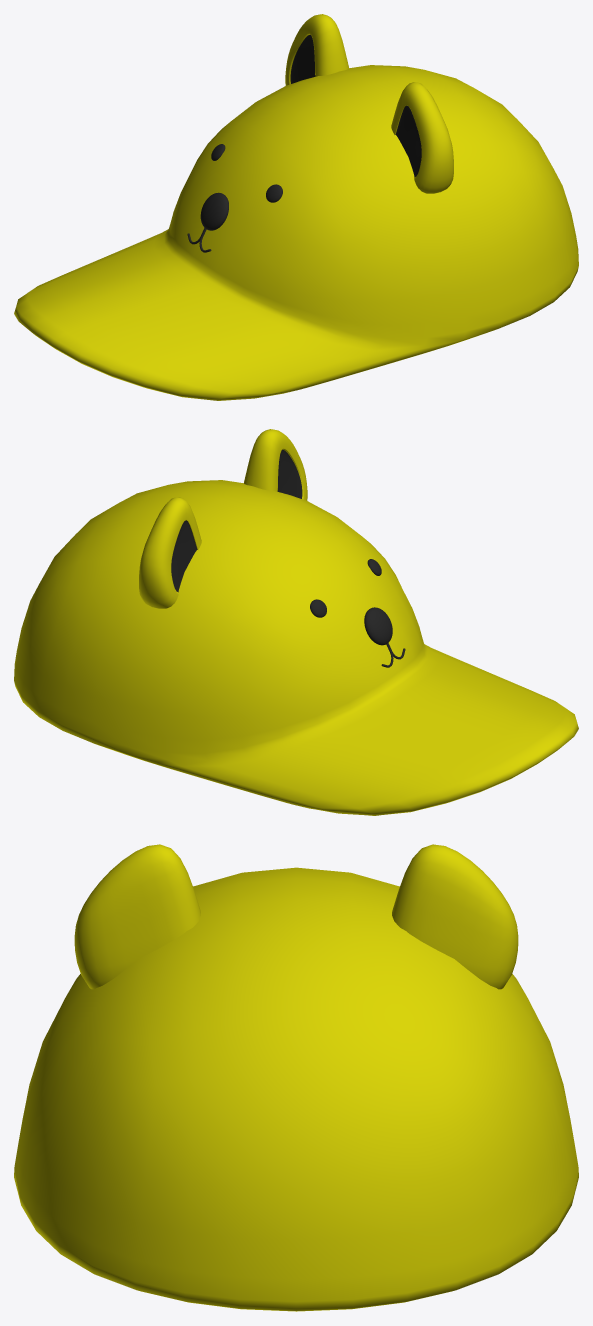
Rendered from cat_cap.glb.
The picture shows the model from 3 angles, top to bottom: view 1: azimuth 30°, elevation 25°; view 2: azimuth 150°, elevation 25°; view 3: azimuth 270°, elevation 25°; orthographic projection. The views are drawn at different scales.
Parts seen in each view (by area): view 1: Cube_0, Cube.001_3, Sphere_4; view 2: Cube_0, Cube.001_3, Sphere_4; view 3: Cube_0, Cube.001_3.
Part boxes in pixels (x1,y1,x2,y2): Cube_0: [14, 65, 578, 400]; Cube.001_3: [285, 14, 453, 193]; Sphere_4: [200, 192, 228, 230]; Cube_0: [14, 480, 578, 815]; Cube.001_3: [139, 429, 307, 608]; Sphere_4: [364, 607, 392, 645]; Cube_0: [14, 867, 578, 1311]; Cube.001_3: [74, 844, 518, 989].
Size of the model in its own units: 2.34 by 1.05 by 1.46.
